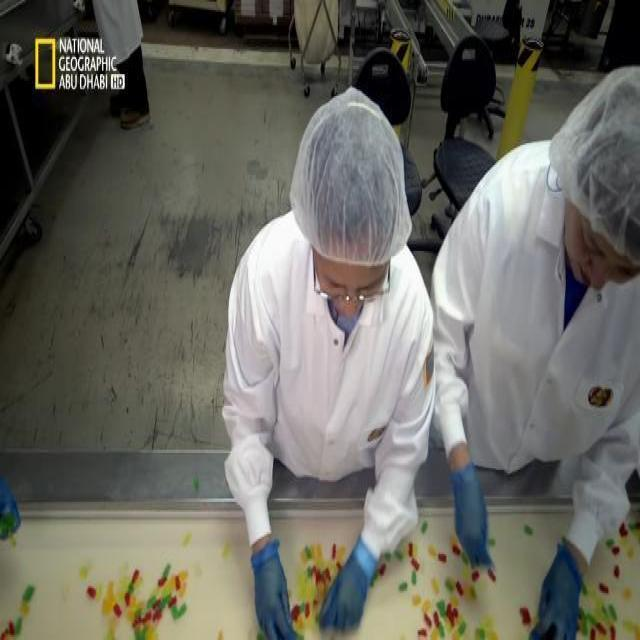gloved_hand: (438, 428, 515, 606), (527, 510, 597, 638), (304, 529, 382, 638), (243, 542, 299, 638)
